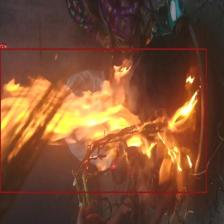fire: (0, 48, 206, 192)
